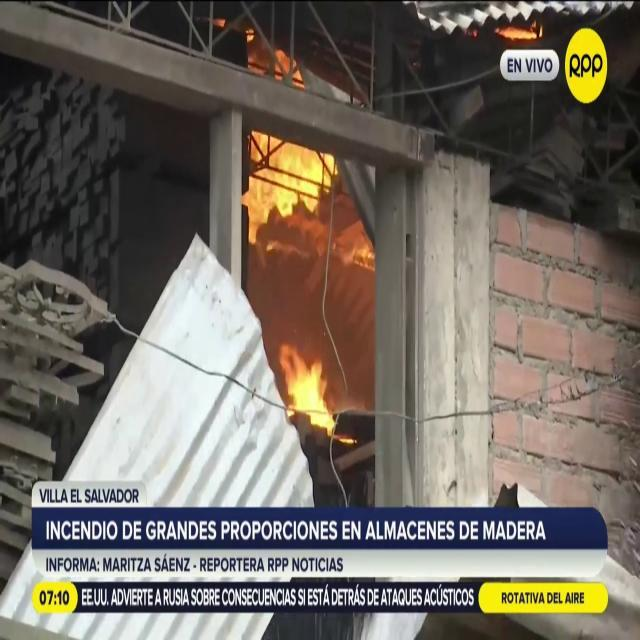Fire: (240, 125, 338, 239), (278, 338, 339, 434)
